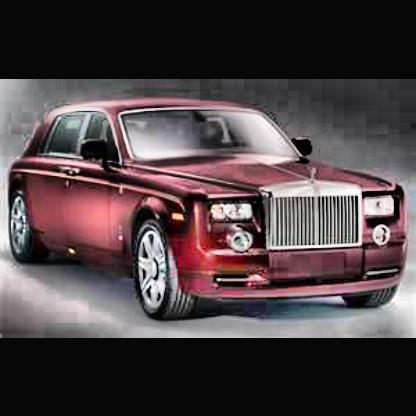Rolls-Royce Phantom Sedan 2012: (2, 88, 416, 314)
